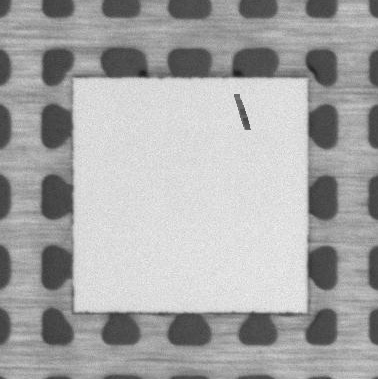DIE_INK: (230, 94, 250, 130)
